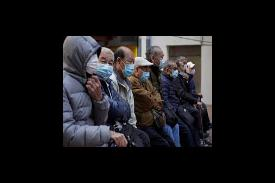mask_weared_incorrect: (181, 64, 186, 76)
with_mask: (100, 55, 113, 76), (125, 56, 135, 75), (142, 67, 151, 79), (159, 52, 165, 68), (172, 64, 178, 77), (191, 67, 196, 75)
